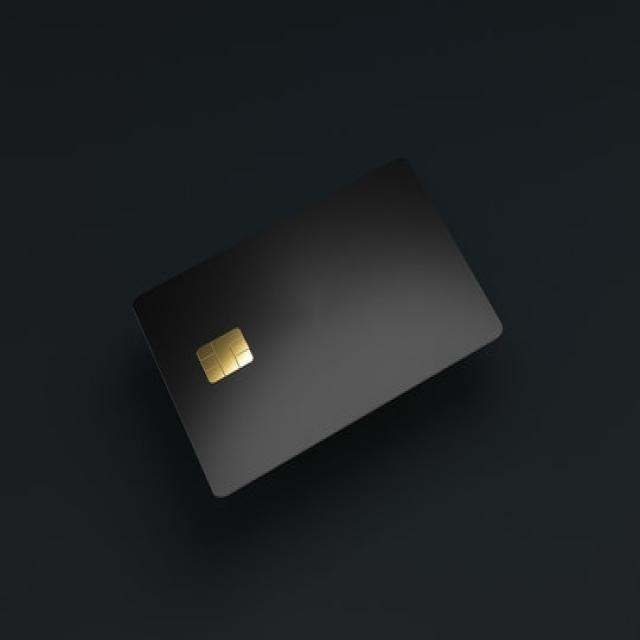payment_card: (130, 155, 504, 499)
